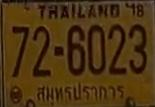0: (87, 24, 105, 74)
2: (107, 24, 126, 75), (32, 26, 51, 77)
3: (128, 23, 146, 73)
6: (67, 24, 84, 74)
7: (12, 25, 28, 76)
SPK: (34, 81, 126, 102)
